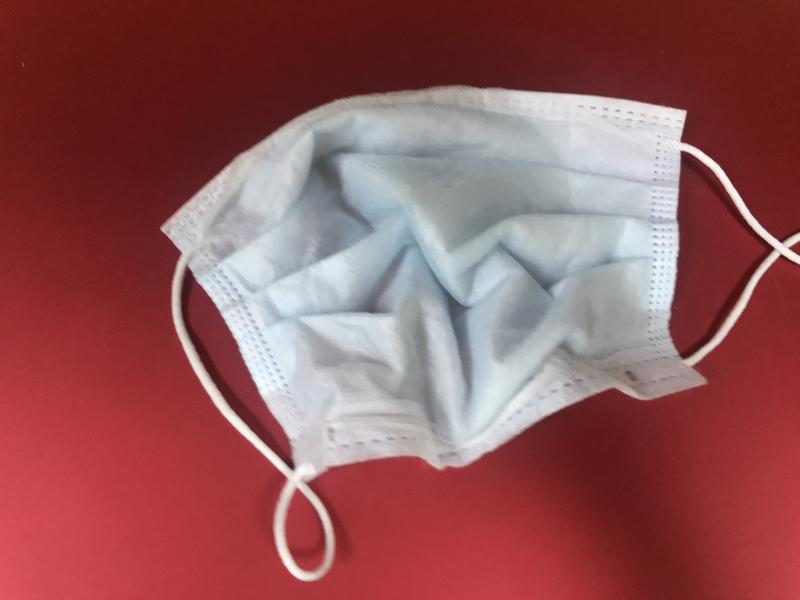medical_mask: (162, 87, 800, 582)
